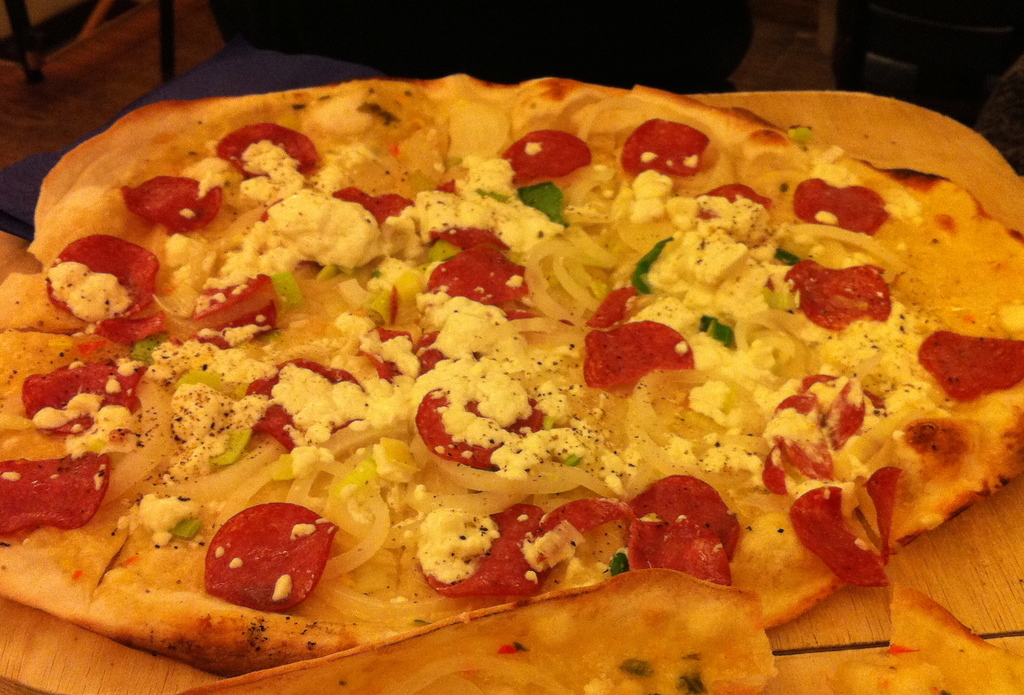Pizza: (11, 78, 1024, 673)
